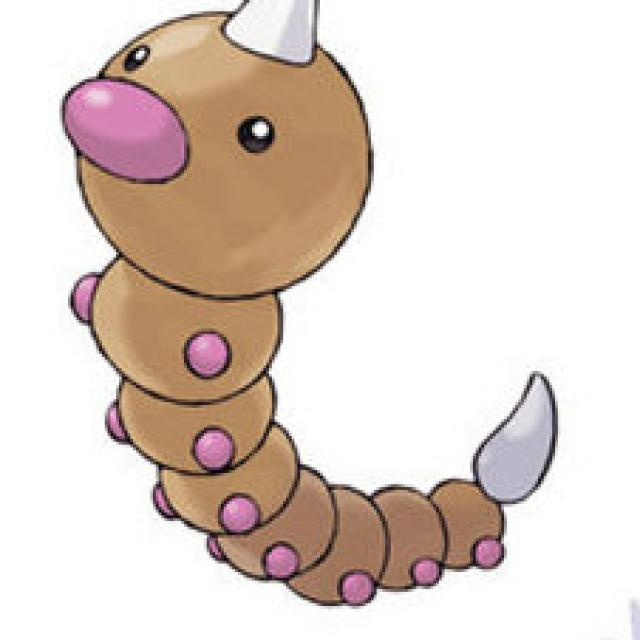Weedle: (68, 1, 560, 607)
